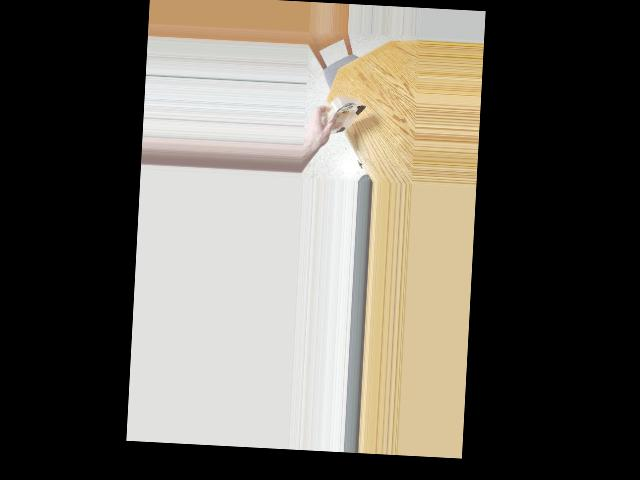cheese: (322, 88, 366, 147)
